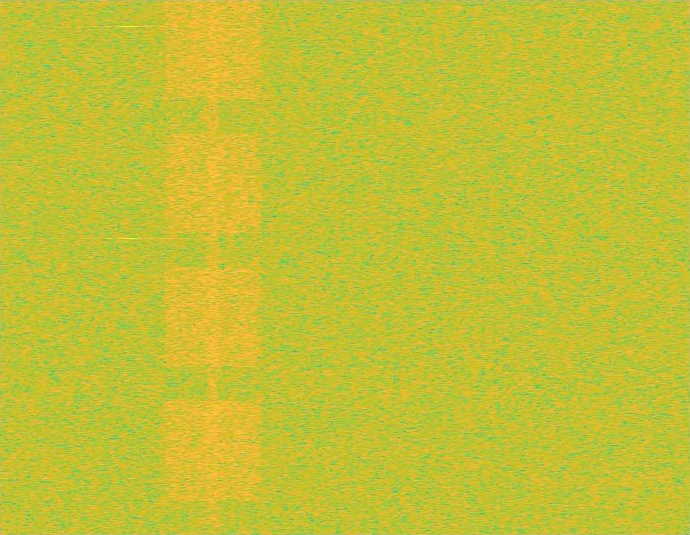5G: (162, 0, 265, 534)
DSSS: (206, 0, 220, 534)
Radar: (122, 0, 136, 534)
